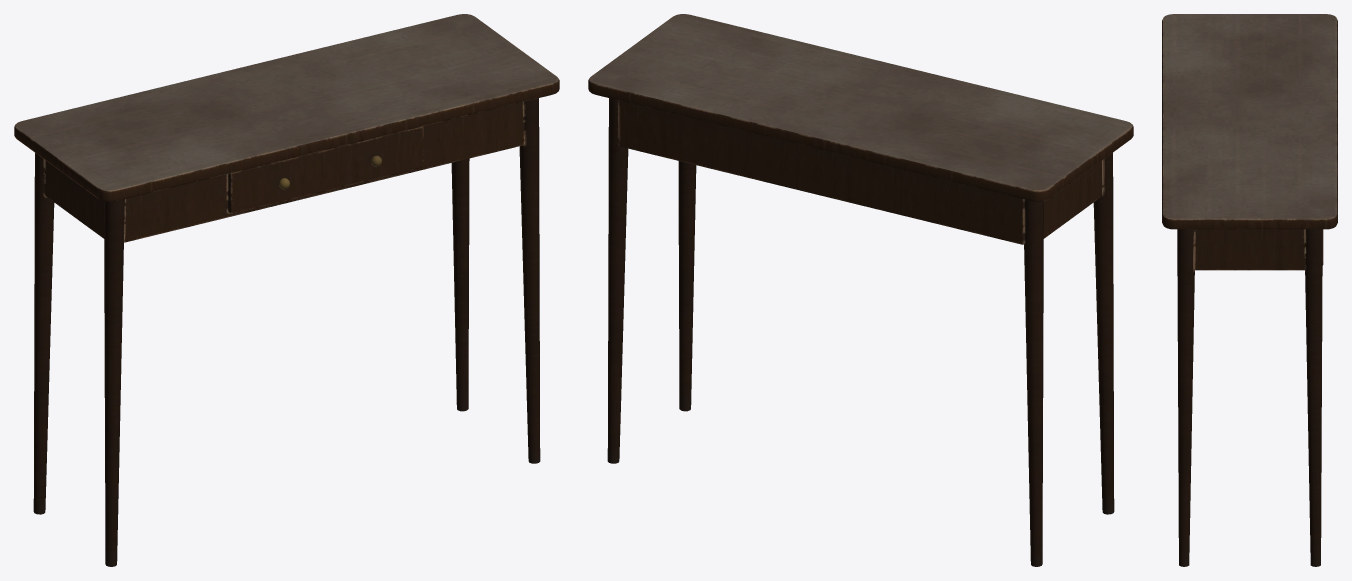
File: hall_table.glb
The picture shows the model from 3 angles, left to right: view 1: azimuth 30°, elevation 25°; view 2: azimuth 150°, elevation 25°; view 3: azimuth 270°, elevation 25°; orthographic projection. The views are drawn at different scales.
Visible parts, largest first — view 1: hall_table; view 2: hall_table; view 3: hall_table.
Part boxes in pixels (x1,y1,x2,y2): hall_table: [14, 14, 559, 566]; hall_table: [588, 14, 1133, 566]; hall_table: [1162, 14, 1337, 566].
Size of the model in its own units: 1 by 0.8002 by 0.36.
Materials: 1 (1 with a texture image).
